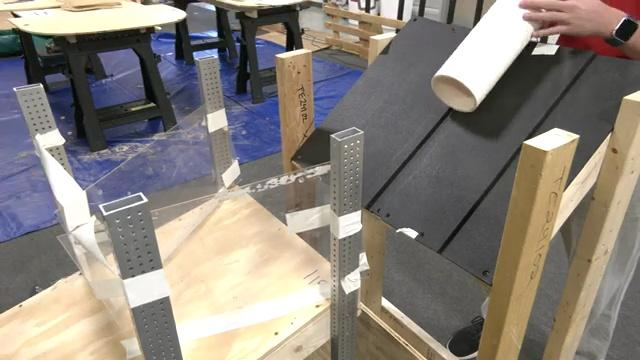CORAL: (429, 0, 544, 113)
